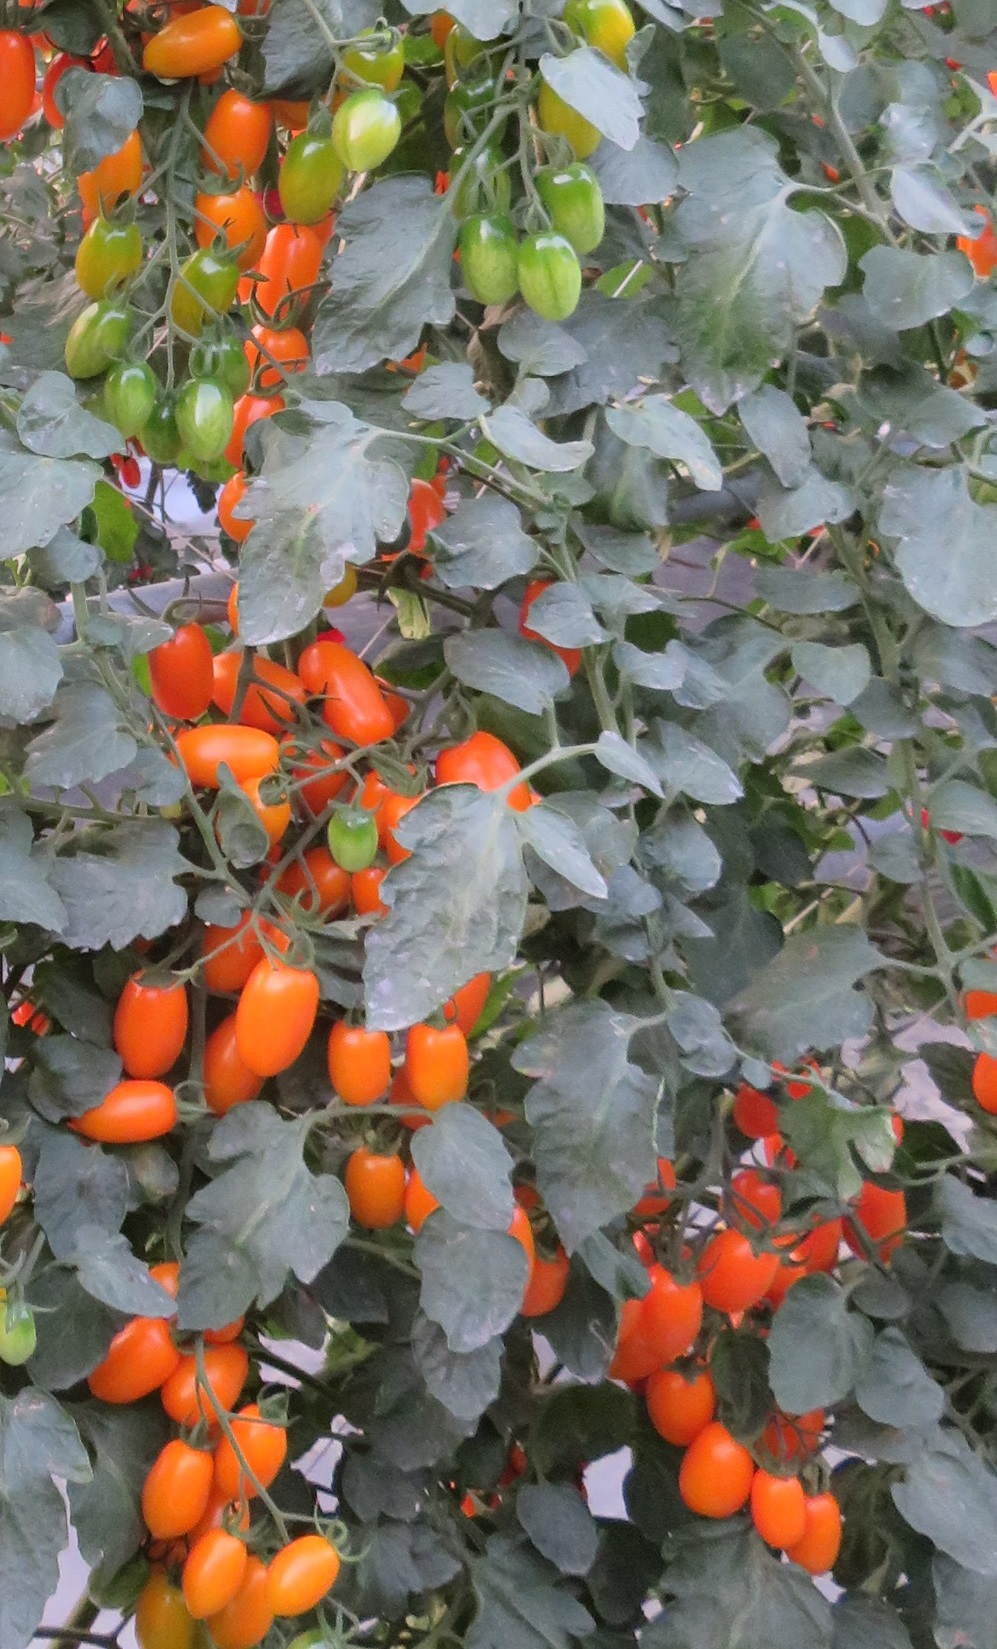green: (524, 69, 613, 158), (276, 126, 346, 229), (167, 238, 242, 331), (62, 296, 137, 380), (519, 229, 585, 323), (74, 216, 143, 299), (331, 90, 401, 170), (177, 375, 235, 466), (460, 216, 519, 302), (544, 165, 608, 236), (326, 804, 379, 885), (106, 375, 159, 448)
orange: (298, 635, 403, 753), (230, 955, 323, 1084), (161, 1336, 268, 1438), (82, 1318, 187, 1409), (202, 74, 282, 192), (253, 1531, 354, 1624), (60, 1075, 184, 1148), (160, 721, 288, 792), (136, 9, 252, 85), (430, 733, 531, 817), (635, 1261, 709, 1377), (216, 1400, 293, 1509), (140, 1435, 216, 1545), (115, 980, 192, 1084), (145, 621, 220, 726), (255, 211, 318, 327), (408, 1019, 482, 1113), (679, 1430, 755, 1521), (176, 1531, 250, 1621), (202, 909, 275, 996), (704, 1233, 775, 1322), (841, 1179, 911, 1270), (642, 1367, 720, 1446), (328, 1031, 396, 1113), (132, 1570, 199, 1649), (521, 1231, 576, 1326), (341, 1150, 408, 1226), (1, 24, 42, 146), (282, 852, 352, 913), (750, 1473, 808, 1545), (729, 1167, 790, 1233), (803, 1494, 845, 1580), (732, 1084, 786, 1146), (218, 470, 260, 548), (1, 1146, 24, 1233), (972, 1048, 997, 1121)
